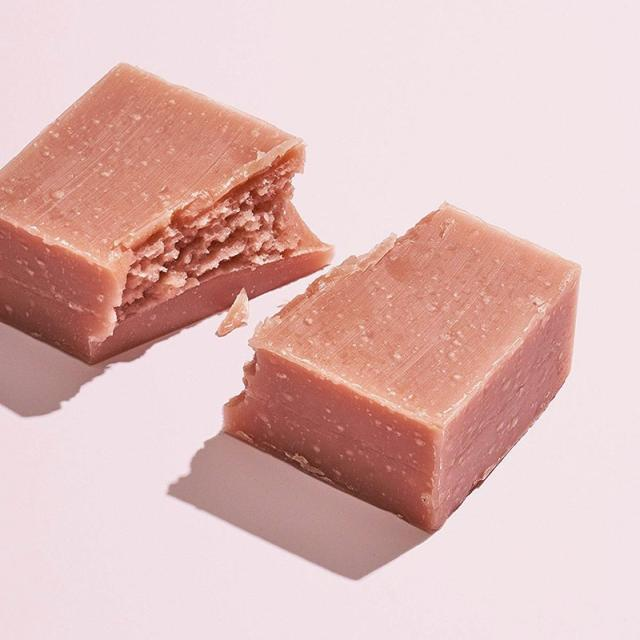soap: (211, 190, 620, 562), (0, 45, 350, 398)
